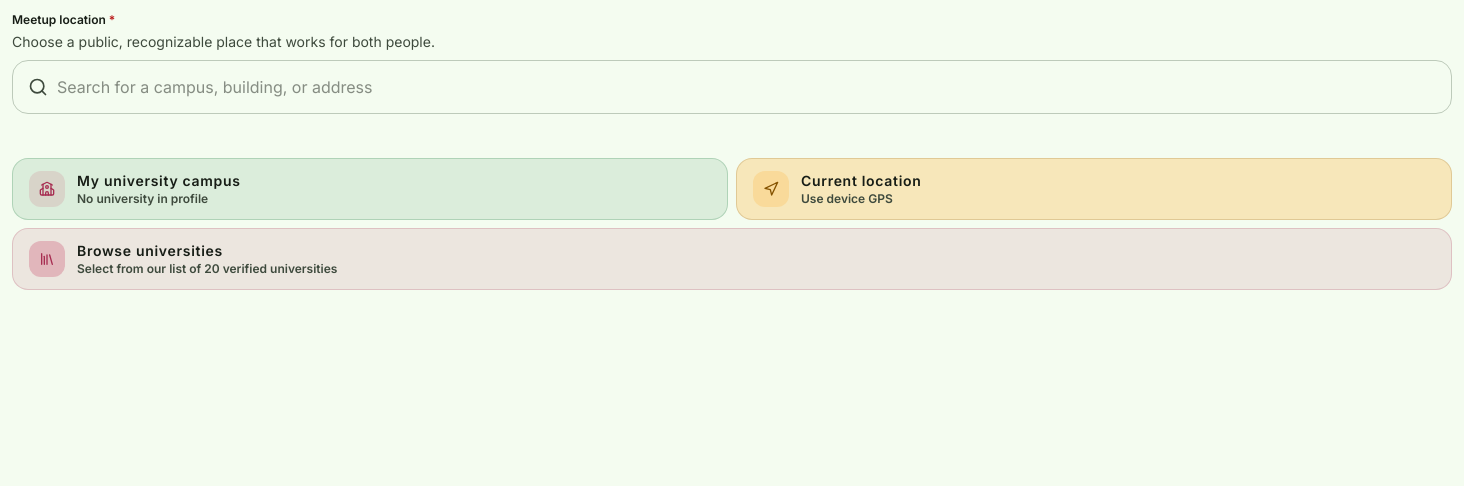
Scenario: LocationPicker › aborts an in-flight autocomplete lookup when a newer query starts
Type "Truy vấn cũ" into the dropdown labelled "Meetup location *".
click(732, 87); type("Truy vấn cũ")  # box x1=12 y1=60 x2=1452 y2=114
Wait 350 ms
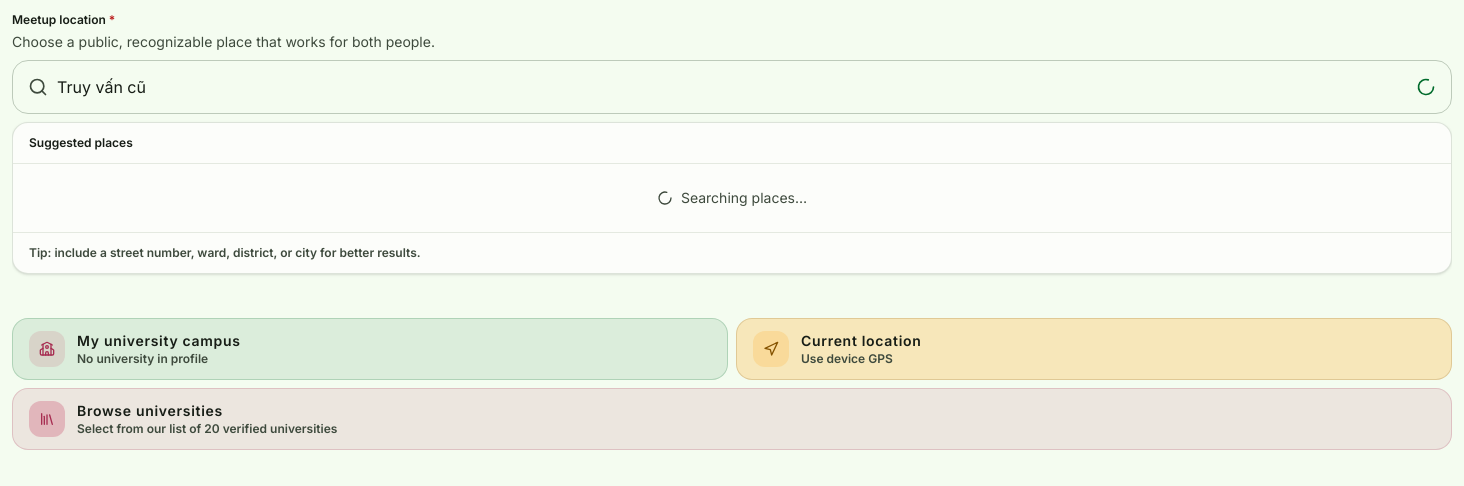
Replace the text in the dropdown labelled "Meetup location *" with "Truy vấn mới" at (732, 87), box x1=12 y1=60 x2=1452 y2=114
Wait 350 ms
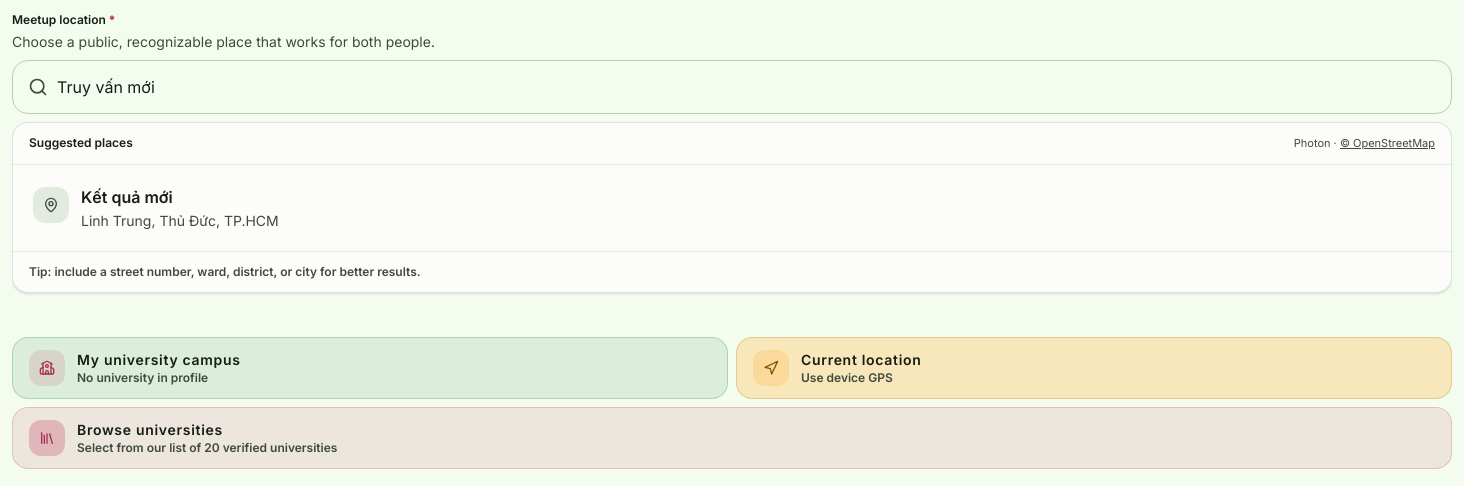
Expected: the text "Kết quả mới" is shown, x1=81 y1=184 x2=173 y2=208
